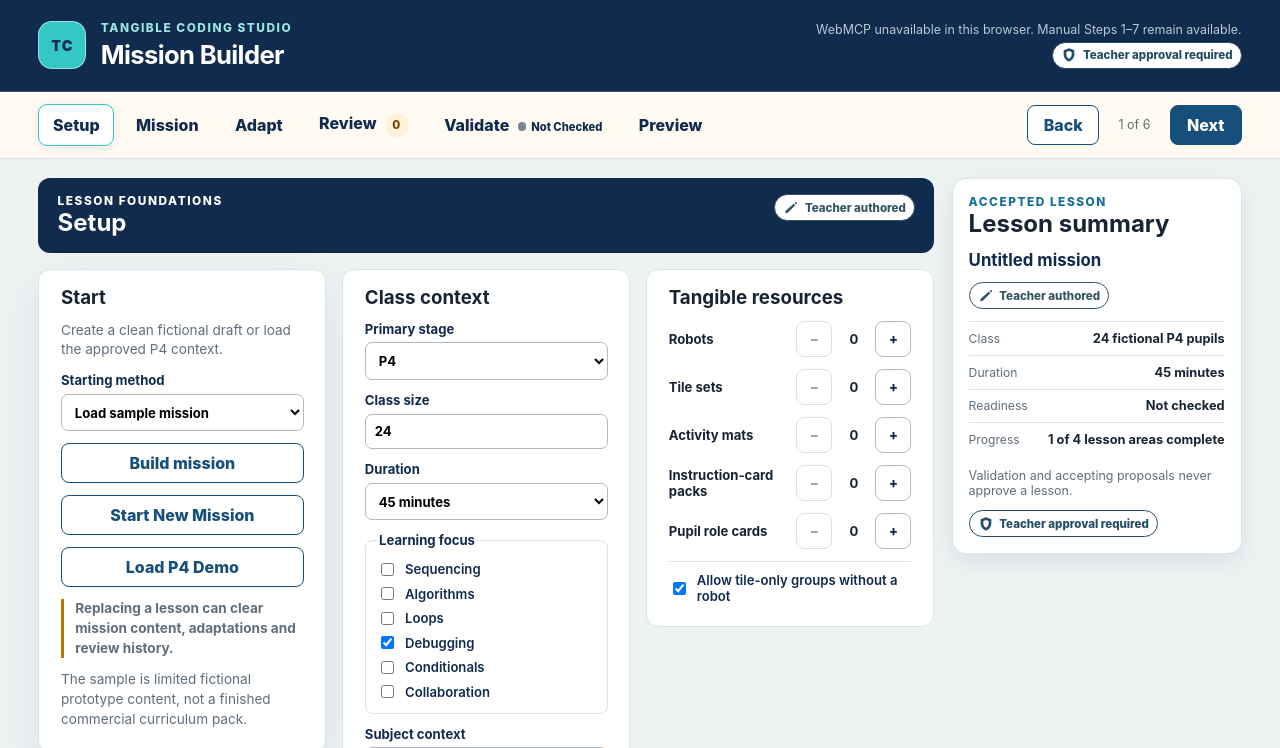
Test: Mission Builder foundation › recovers from invalid text and recalculates grouping for a valid class size
Click the button "Load P4 Demo" at [182, 567], box left=61, top=547, right=304, bottom=587
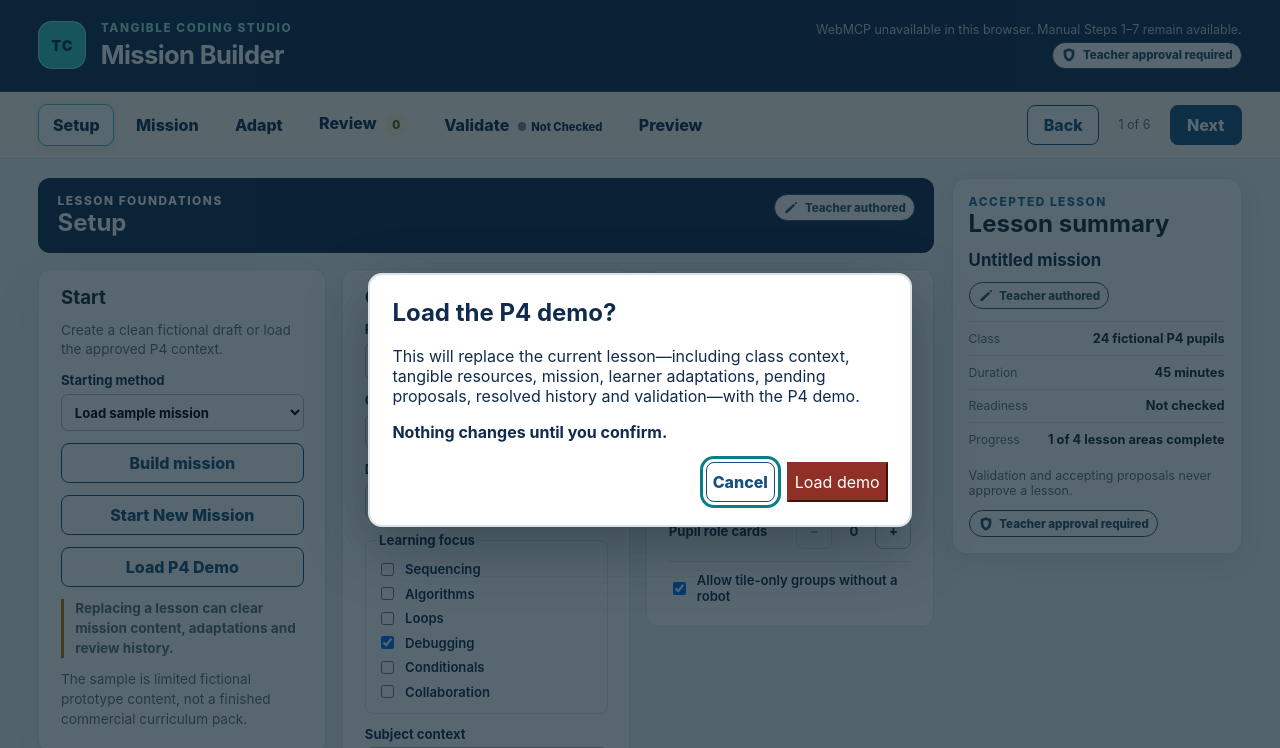
Click the button "Load demo" at [837, 482], box left=787, top=462, right=888, bottom=502
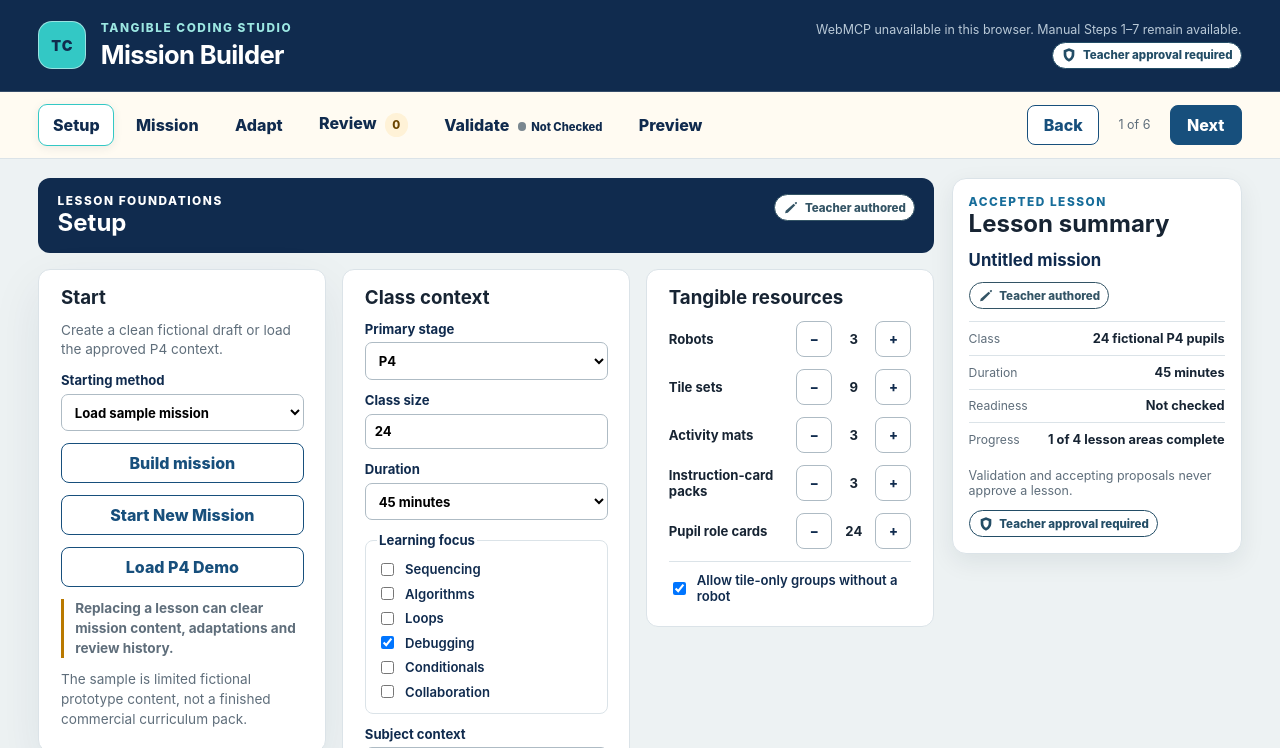
Clear the number field labelled "Class size" at [486, 431], box left=365, top=414, right=608, bottom=449
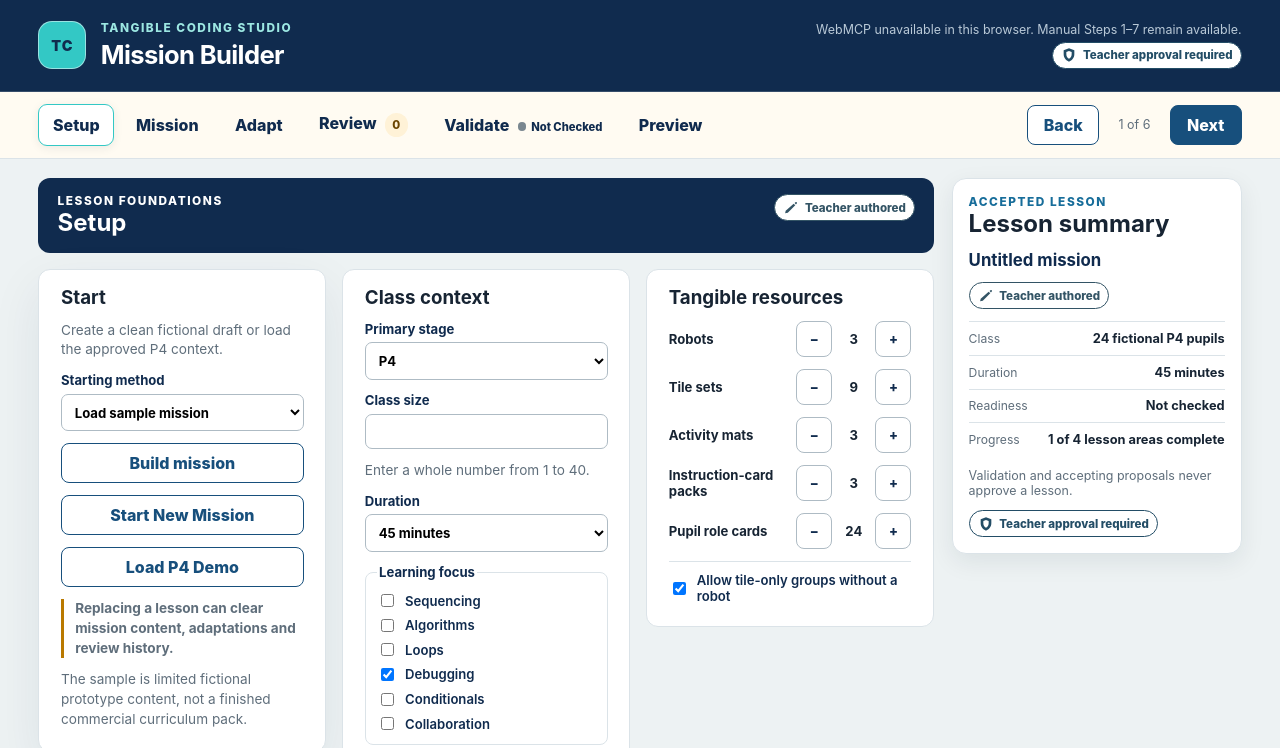
Type "16" into the number field labelled "Class size" at [486, 431], box left=365, top=414, right=608, bottom=449
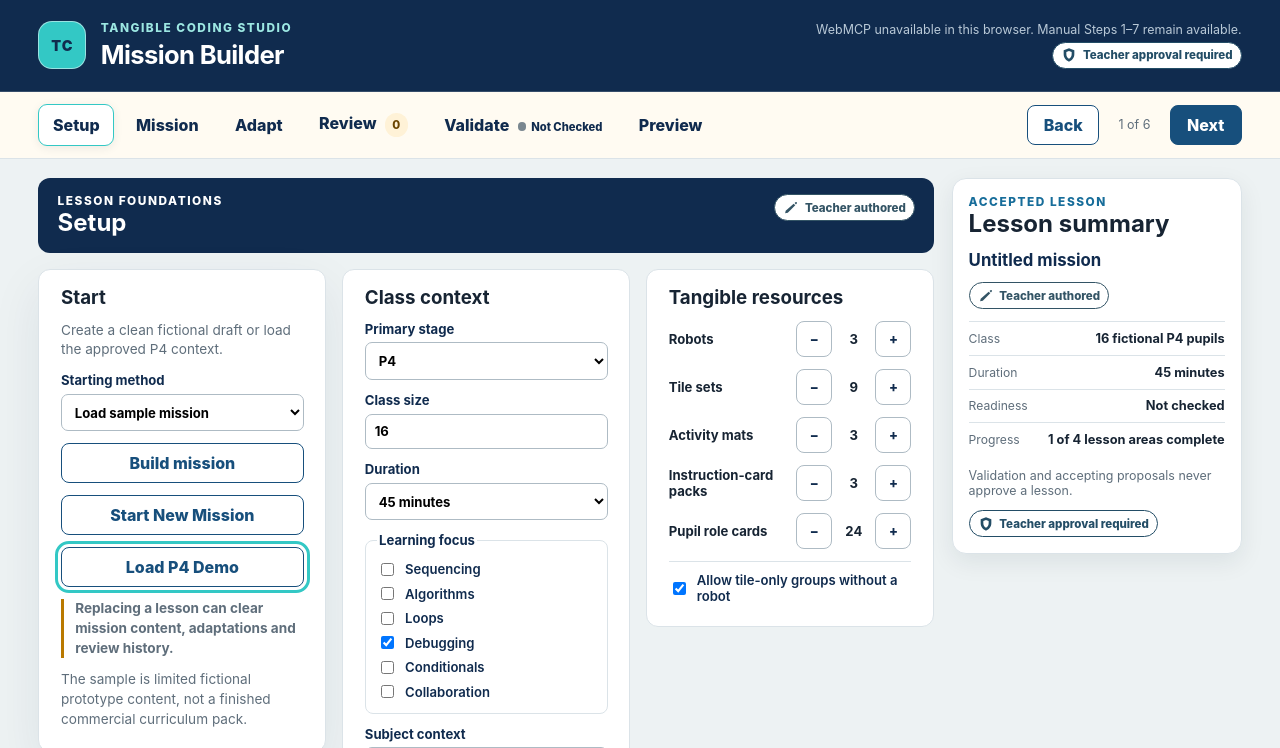
Now the text "Enter a whole number from 1 to 40." is gone
